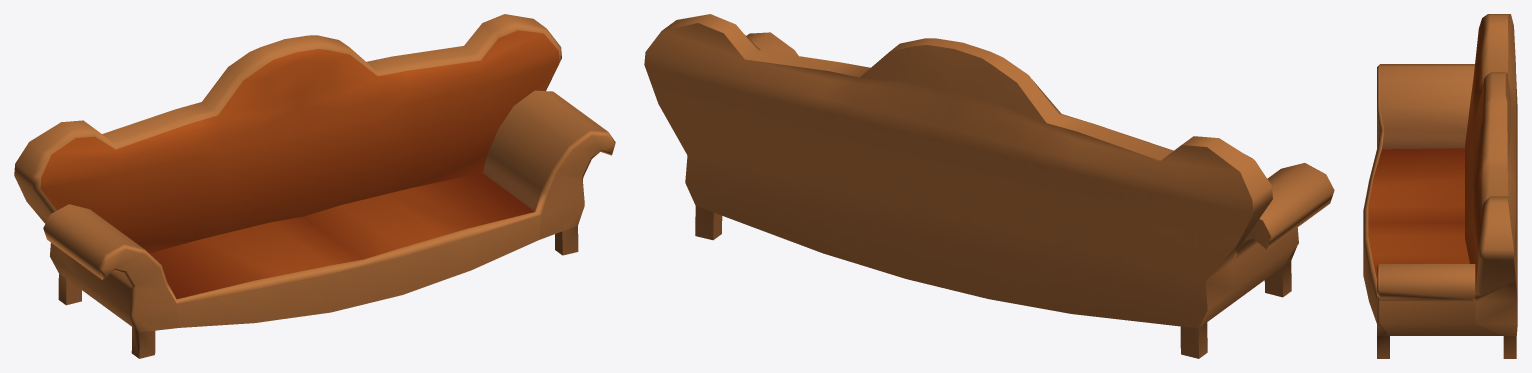
The model's file is SOHVA FIN.fbx.
The picture shows the model from 3 angles, left to right: view 1: azimuth 30°, elevation 25°; view 2: azimuth 150°, elevation 25°; view 3: azimuth 270°, elevation 25°; orthographic projection. The views are drawn at different scales.
Visible parts, largest first — view 1: sohva_fin; view 2: sohva_fin; view 3: sohva_fin.
Part boxes in pixels (<box>): sohva_fin: <box>14,14,615,358</box>; sohva_fin: <box>644,14,1334,358</box>; sohva_fin: <box>1363,14,1517,358</box>.
Size of the model in its own units: 2.11 by 0.8029 by 0.6136.
